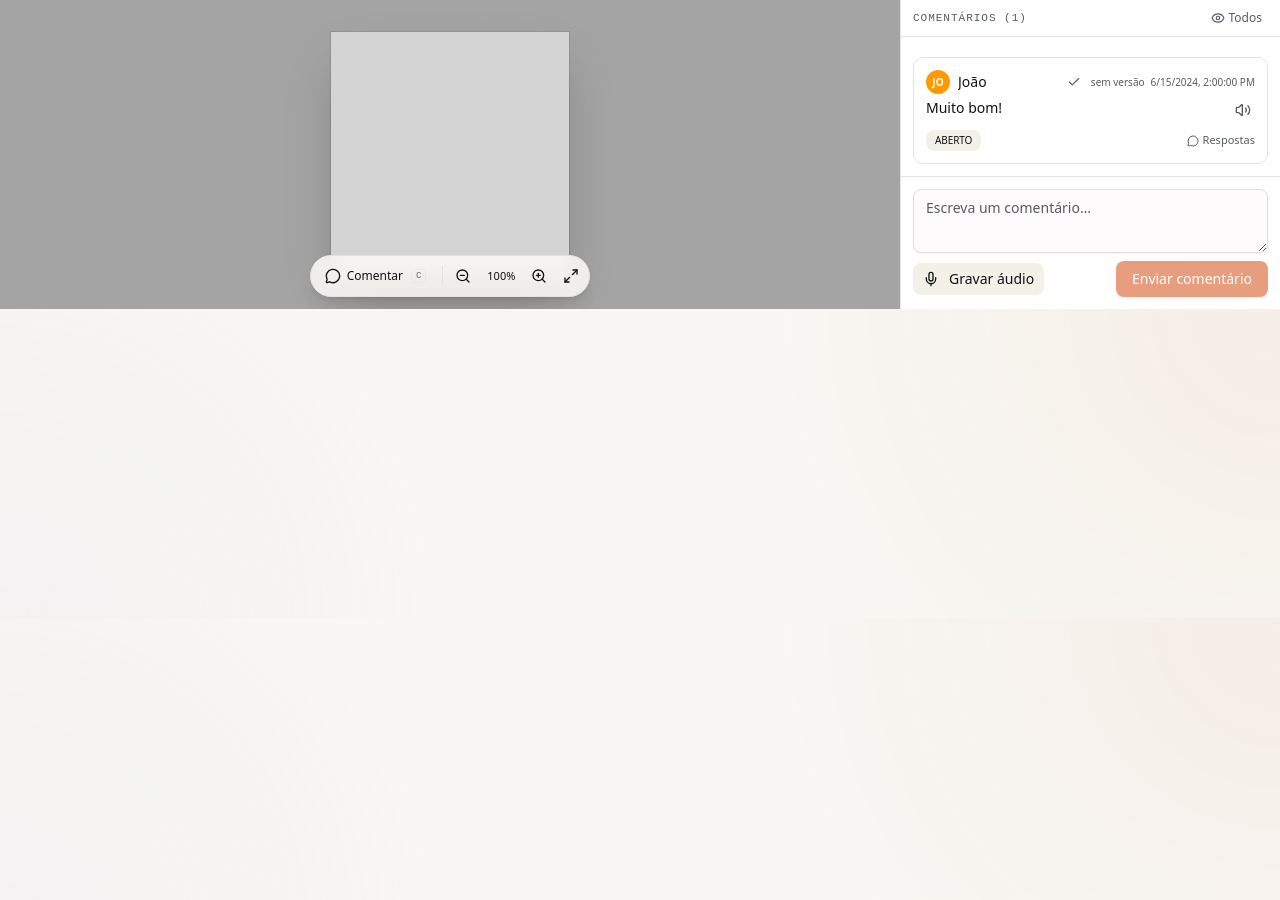
Scenario: FeedbackViewer › expands thread on click and shows empty state
Click the button "Respostas". click: x=1221, y=141
box: [1187, 132, 1255, 149]
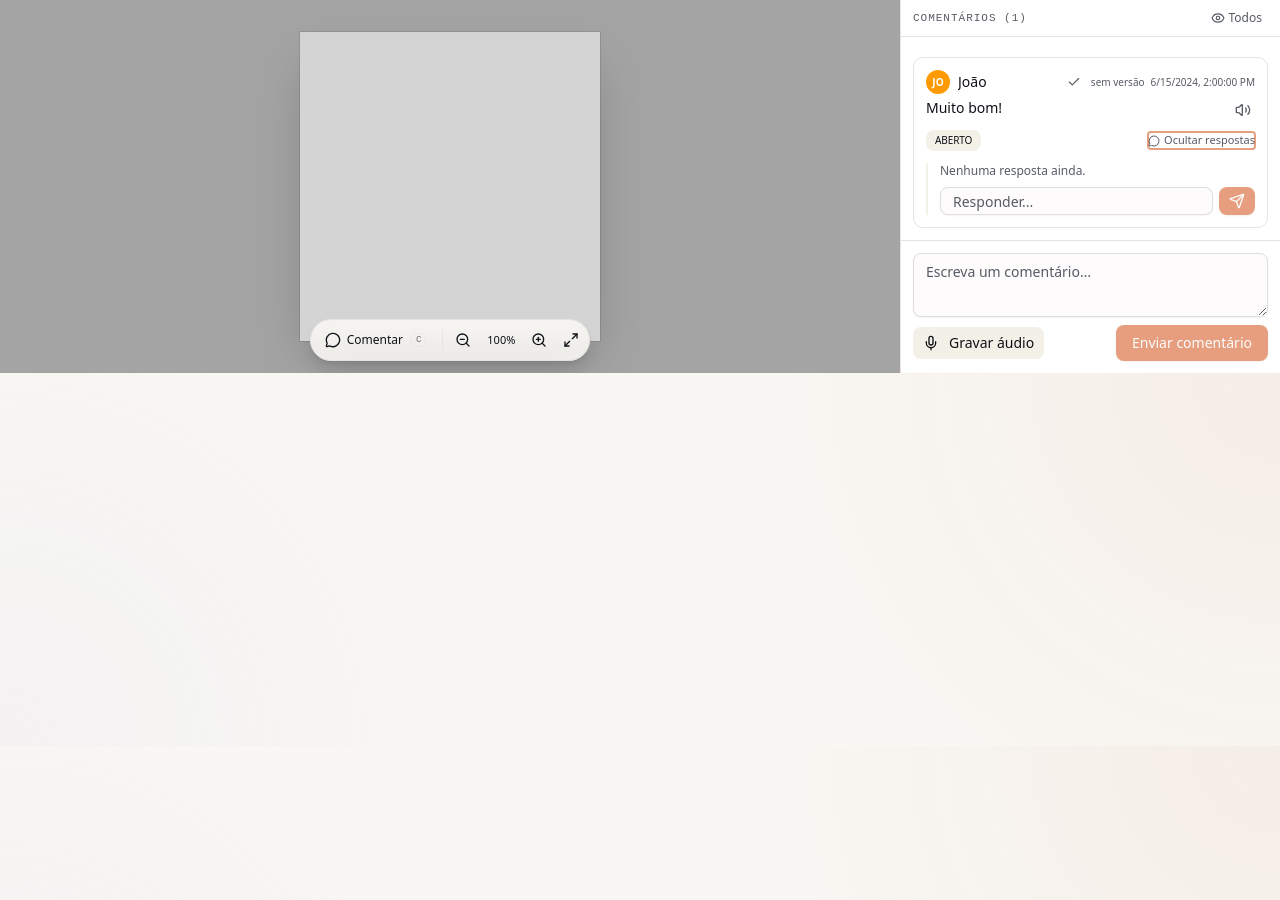
Result: the text "Nenhuma resposta ainda." is shown at [940, 162, 1086, 179]
Result: the field with placeholder "Responder..." is shown at [940, 187, 1213, 215]
